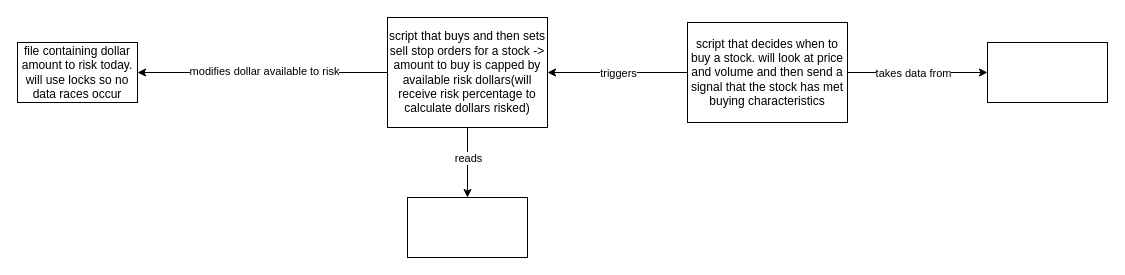
The diagram is 1125 pixels wide and 275 high, and some of its shapes have lost their labels. Each missing label, with the centre of its shape:
file containing instructions on how many shares to buy and sell of a stock: [467,227]
script(server) that fetches price and volume data: [1047,72]
